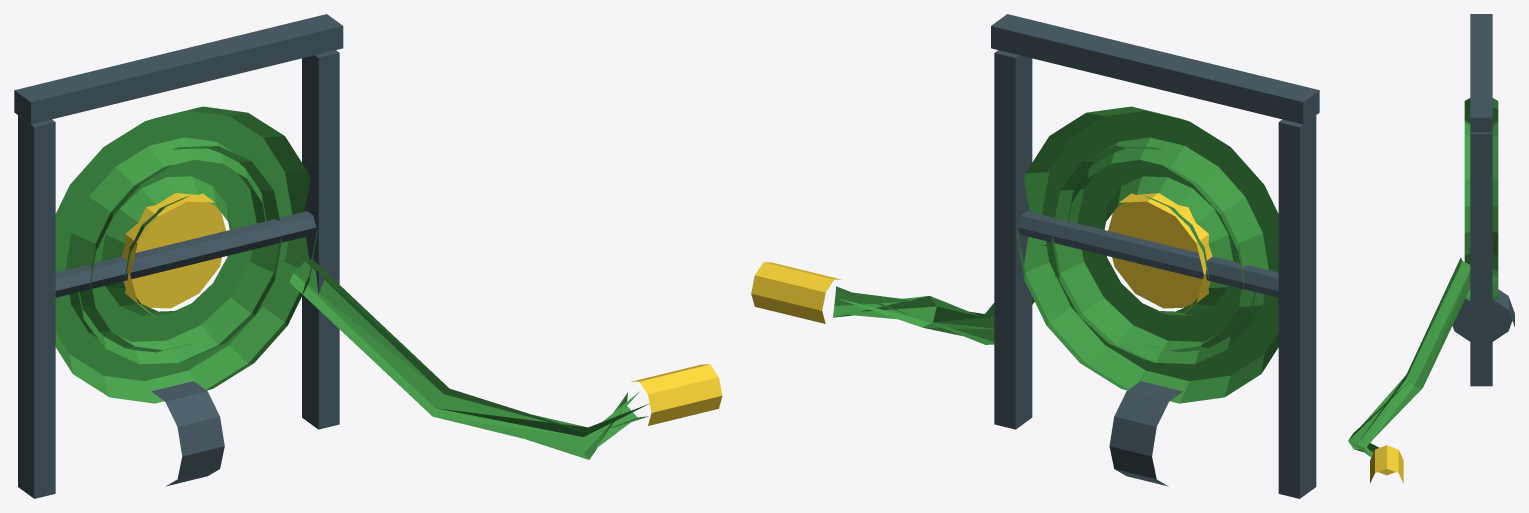
Rendered from vattenslang.glb.
3 views of the same model, side by side, from view 1: azimuth 30°, elevation 25°; view 2: azimuth 150°, elevation 25°; view 3: azimuth 270°, elevation 25° (orthographic). The views are drawn at different scales.
Visible parts, largest first — view 1: vattenslang; view 2: vattenslang; view 3: vattenslang.
Boxes of the visible parts, x1,y1,x2,y2 form: vattenslang: (14, 14, 722, 498); vattenslang: (751, 14, 1319, 498); vattenslang: (1348, 14, 1514, 483).
Bounding box in the file's own units: 0.87 × 0.5621 × 0.2996.
